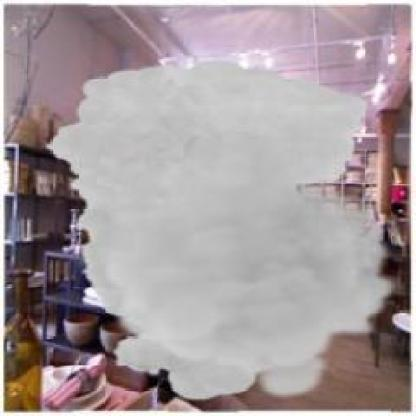Smoke: (42, 49, 398, 390)
